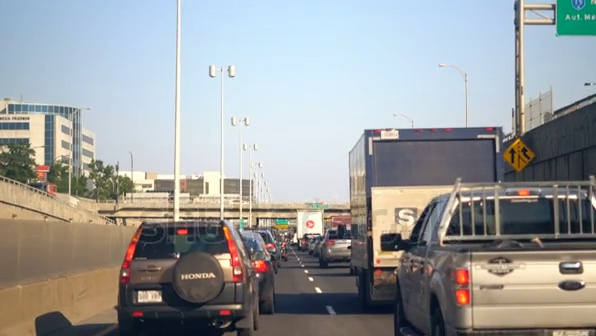licenseplate: (135, 284, 167, 301)
